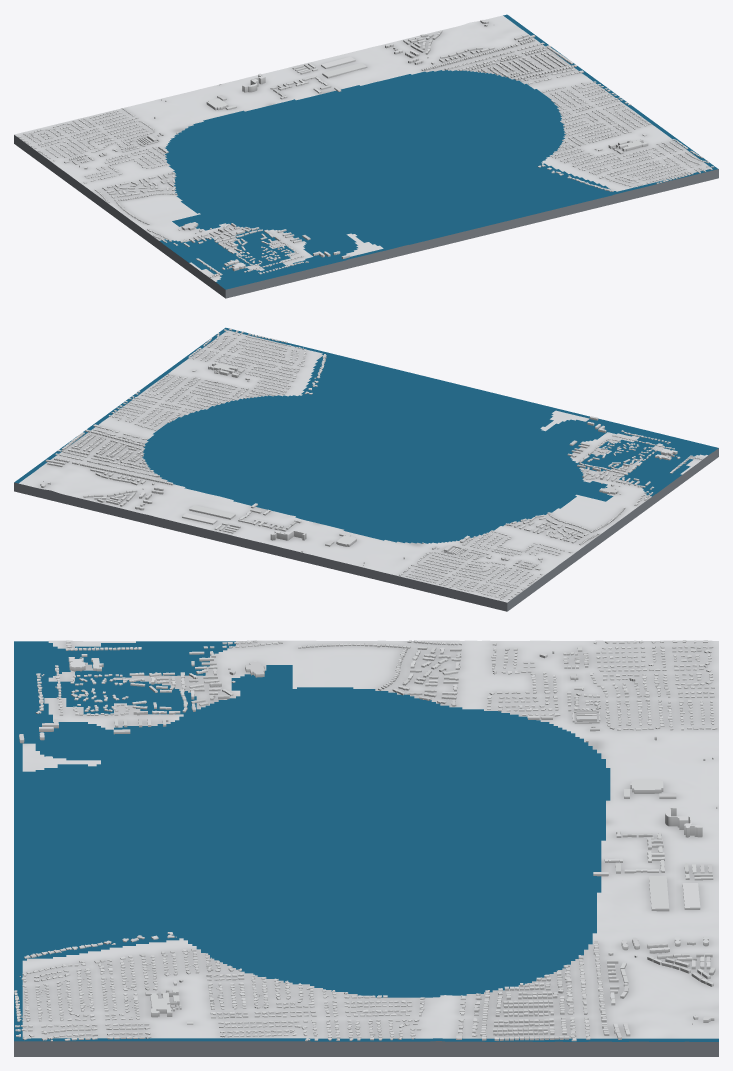
Rendered from far.glb.
3 views of the same model, one above another, from view 1: azimuth 30°, elevation 25°; view 2: azimuth 150°, elevation 25°; view 3: azimuth 270°, elevation 25° (orthographic). The views are drawn at different scales.
Parts seen in each view (by area): view 1: water, terrain, building, plinth; view 2: water, terrain, building, plinth; view 3: water, terrain, building, plinth.
Boxes of the visible parts, x1,y1,x2,y2 form: water: (160,14,717,289); terrain: (14,15,711,281); building: (17,20,714,277); plinth: (14,135,718,298); water: (14,327,718,543); terrain: (19,330,707,602); building: (40,328,702,599); plinth: (14,448,718,611); water: (14,641,718,1041); terrain: (22,640,718,1038); building: (14,640,717,1041); plinth: (14,1041,718,1056).
Bounding box in the file's own units: 3488 × 100 × 2592.
